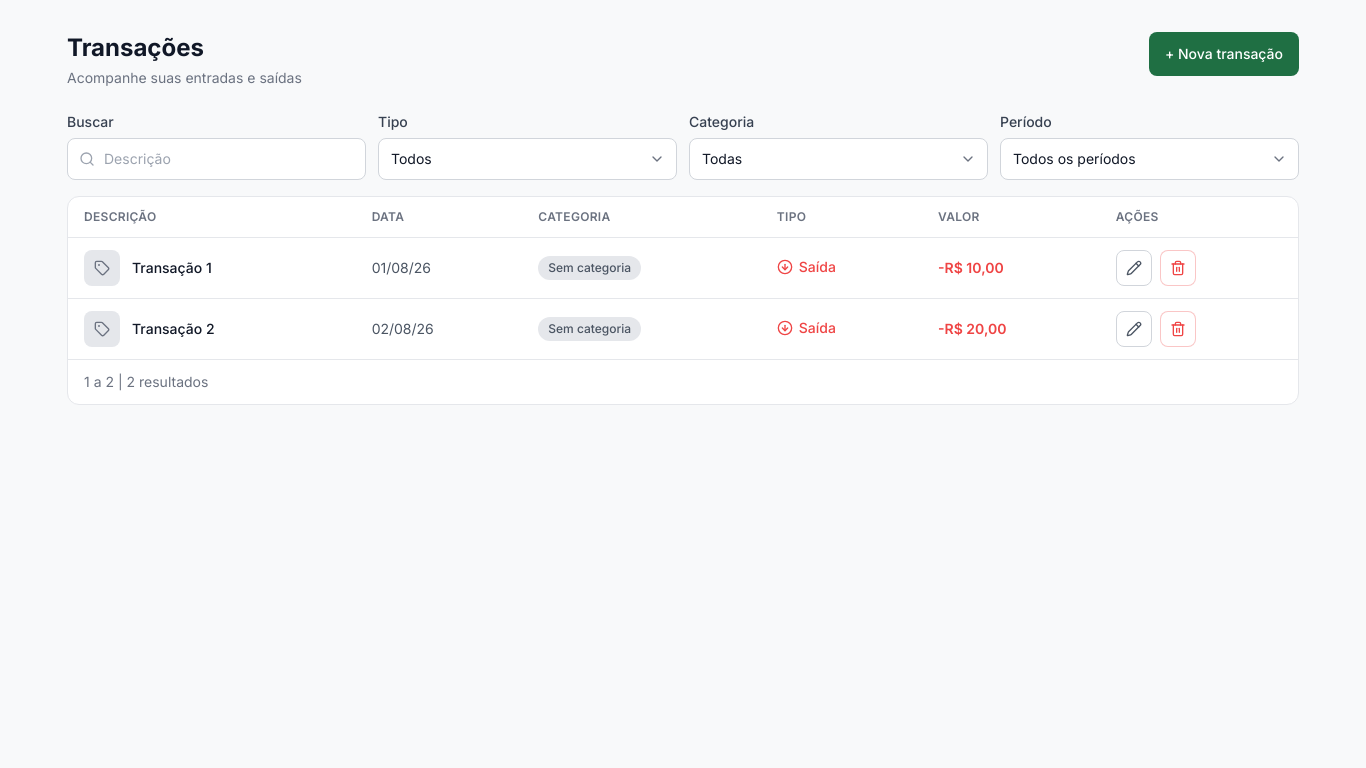
Test: TransactionsPage › opens a second edit holding the newly chosen row, not the first
Expected: the text "Transação 1" is shown, [132,258,212,278]
Click the button named "Editar Transação 1" at (1134, 268), box [1116,250,1152,286]
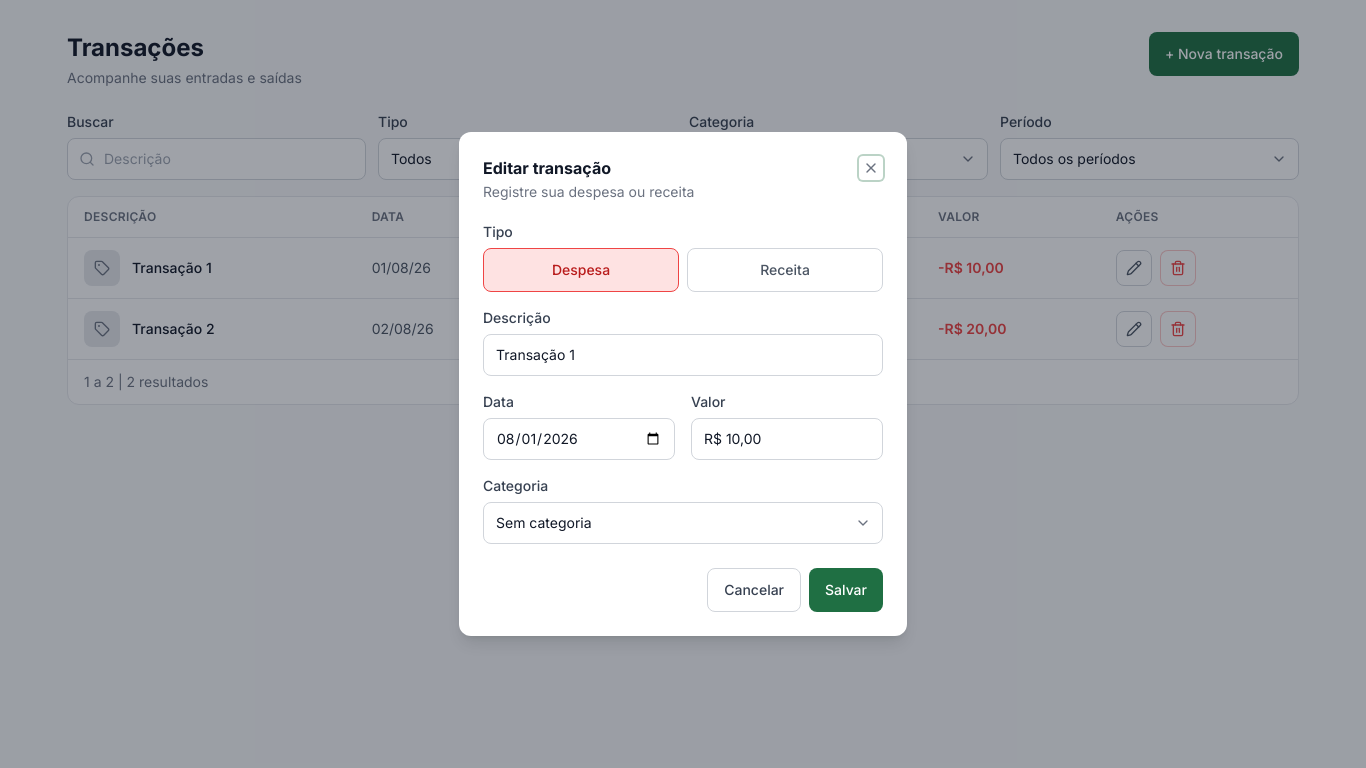
Now the heading "Editar transação" is shown, box [483,158,611,178]
Now the field labelled "Descrição" holds "Transação 1", box [483,334,883,376]
Click the button "Cancelar" at (754, 590), box [707,568,801,612]
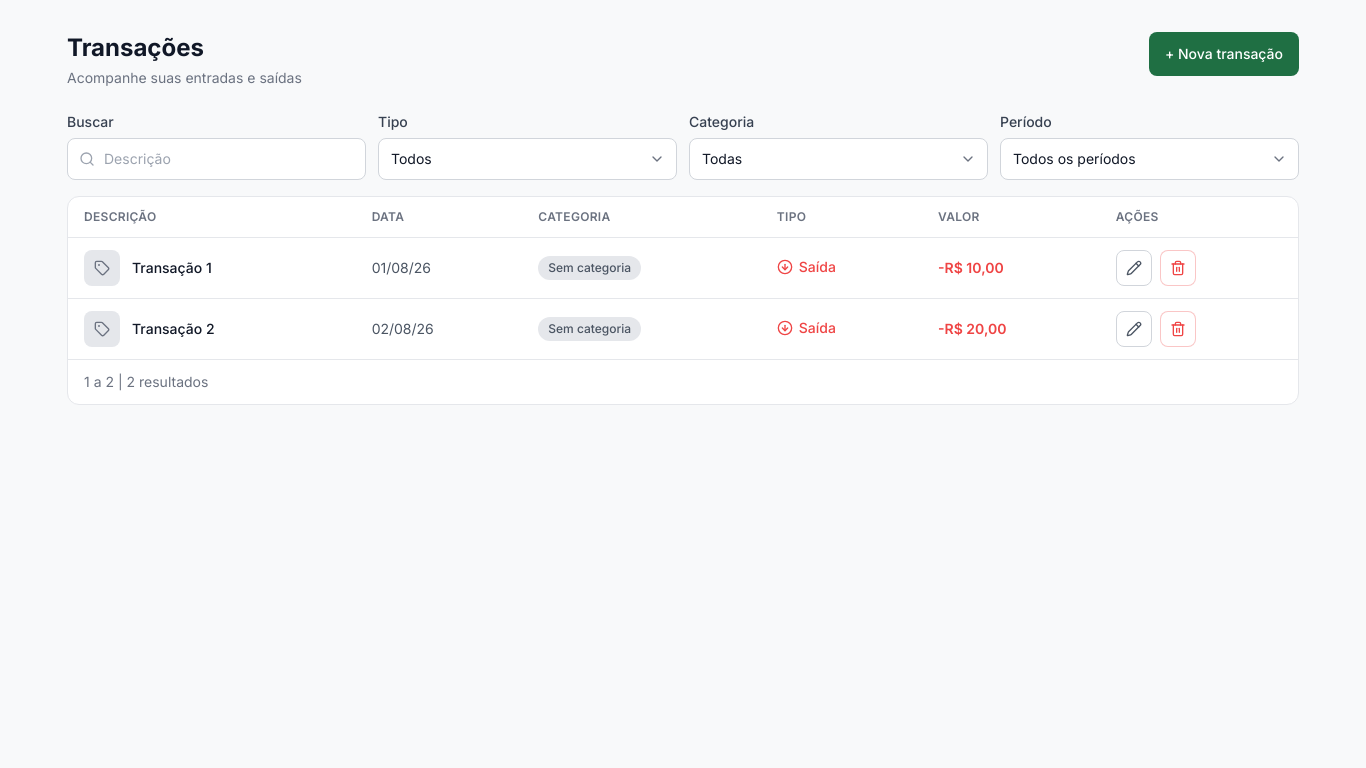
Click the button named "Editar Transação 2" at (1134, 329), box [1116,311,1152,347]
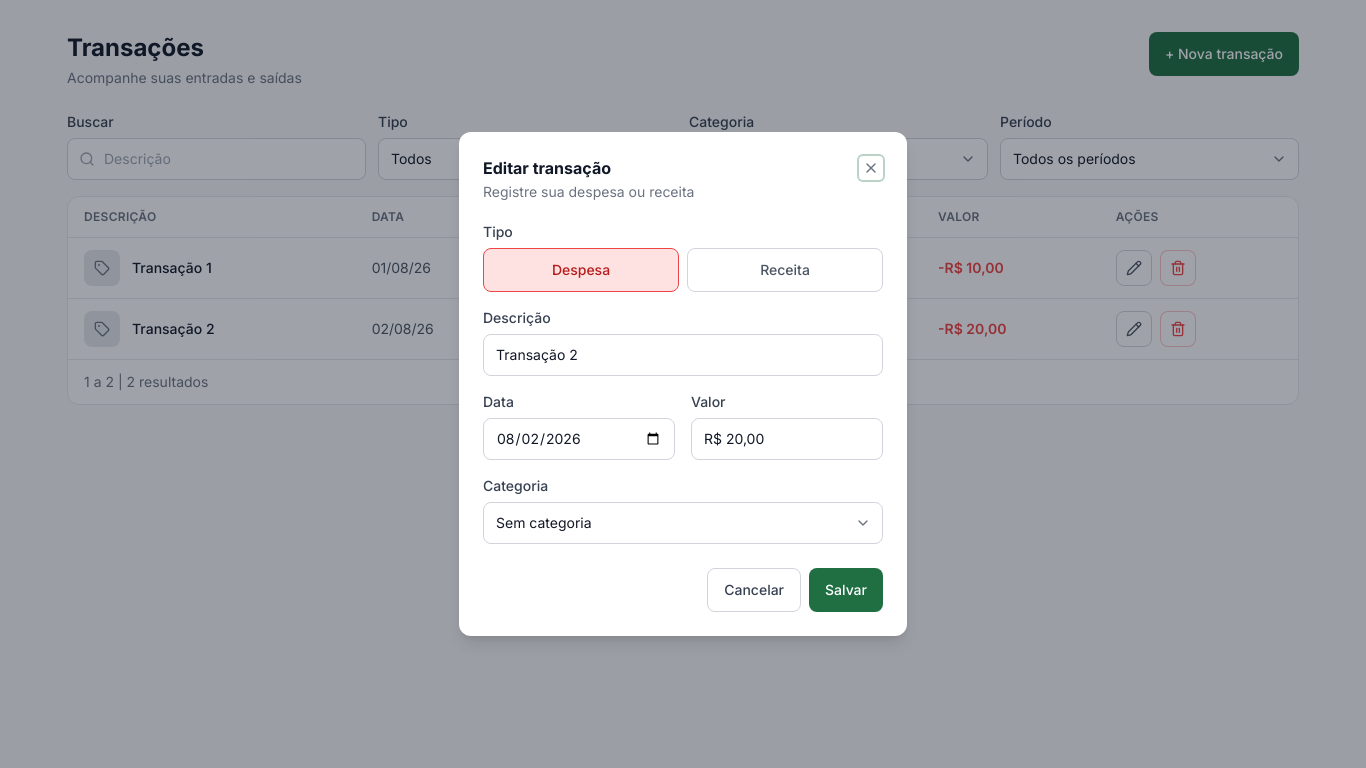
Now the heading "Editar transação" is shown, box [483,158,611,178]
Now the field labelled "Descrição" holds "Transação 2", box [483,334,883,376]
